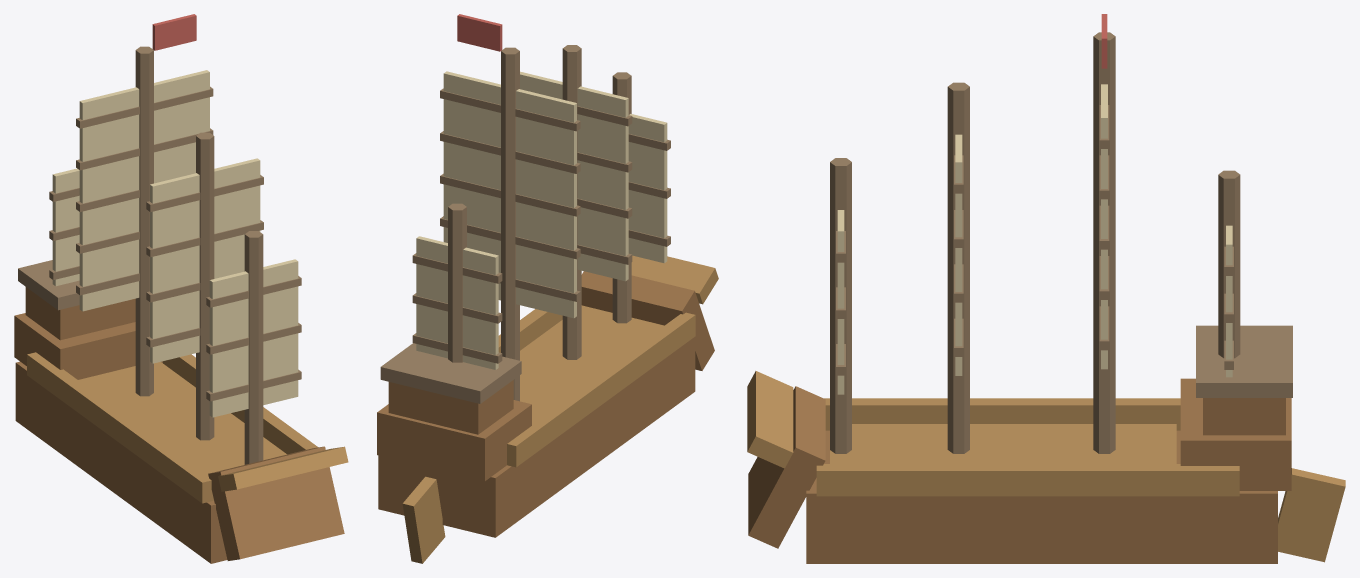
The model's file is troop-large-ship.glb.
3 renders of one model, left to right at view 1: azimuth 30°, elevation 25°; view 2: azimuth 150°, elevation 25°; view 3: azimuth 270°, elevation 25°, orthographic. The views are drawn at different scales.
Parts seen in each view (by area): view 1: sail, sail2, body, sail3, bow_panel, deck, gunwale_l, sail_mast, poop1, sail2_mast, sail3_mast, sail4 (+5 smaller); view 2: sail, body, sail2, sail4, deck, poop1, gunwale_l, sail3, sail_mast, poop_roof, bow_panel, poop2 (+7 smaller); view 3: body, gunwale_r, deck, gunwale_l, sail_mast, bow_panel, sail2_mast, poop_roof, poop1, sail3_mast, rudder, bow_cap (+6 smaller).
Boxes of the visible parts, <box> form: sail: <box>76,70,213,311</box>; sail2: <box>146,158,263,363</box>; body: <box>15,361,227,563</box>; sail3: <box>206,259,301,417</box>; bow_panel: <box>208,446,344,560</box>; deck: <box>78,362,286,474</box>; gunwale_l: <box>27,352,213,503</box>; sail_mast: <box>135,46,153,396</box>; poop1: <box>14,313,162,379</box>; sail2_mast: <box>196,132,214,440</box>; sail3_mast: <box>244,231,263,464</box>; sail4: <box>49,168,79,286</box>; sail: <box>440,71,580,318</box>; body: <box>378,305,695,537</box>; sail2: <box>520,71,632,281</box>; sail4: <box>412,236,502,369</box>; deck: <box>520,305,664,422</box>; poop1: <box>377,400,531,481</box>; gunwale_l: <box>507,312,695,467</box>; sail3: <box>628,114,670,263</box>; sail_mast: <box>501,47,519,401</box>; poop_roof: <box>380,343,521,403</box>; bow_panel: <box>581,271,714,370</box>; poop2: <box>388,380,513,434</box>; body: <box>806,430,1277,563</box>; gunwale_r: <box>816,464,1239,496</box>; deck: <box>830,424,1176,463</box>; gunwale_l: <box>824,398,1180,430</box>; sail_mast: <box>1093,32,1115,453</box>; bow_panel: <box>748,386,825,548</box>; sail2_mast: <box>947,82,969,453</box>; poop_roof: <box>1196,325,1292,397</box>; poop1: <box>1180,378,1291,490</box>; sail3_mast: <box>830,158,851,453</box>; rudder: <box>1278,468,1345,562</box>; bow_cap: <box>747,371,793,468</box>.
Size of the model in its own units: 0.134 by 0.4379 by 0.4315.
